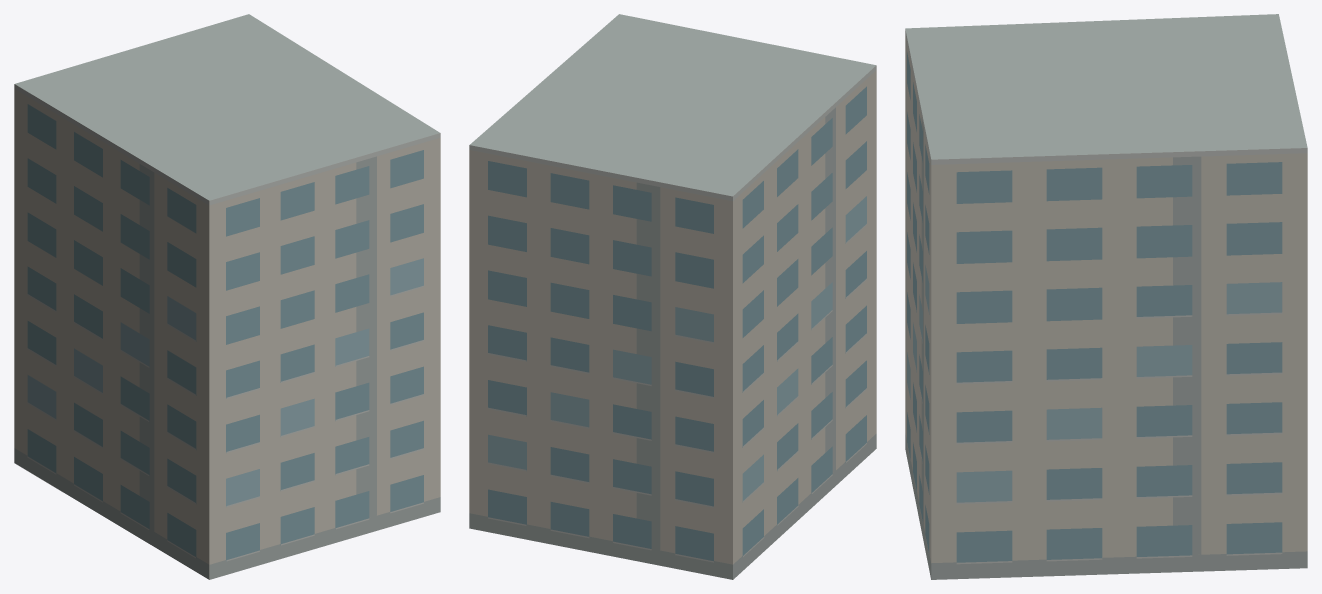
The model's file is survey-upis-32733491.glb.
3 views of the same model, side by side, from view 1: azimuth 30°, elevation 25°; view 2: azimuth 150°, elevation 25°; view 3: azimuth 270°, elevation 25° (orthographic). The views are drawn at different scales.
Parts seen in each view (by area): view 1: survey-upis-32733491.tmp; view 2: survey-upis-32733491.tmp; view 3: survey-upis-32733491.tmp.
Part boxes in pixels (bbox=[...]): survey-upis-32733491.tmp: bbox=[14, 14, 440, 579]; survey-upis-32733491.tmp: bbox=[469, 14, 876, 579]; survey-upis-32733491.tmp: bbox=[905, 14, 1307, 579].
Bounding box in the file's own units: 14.5 × 19.49 × 16.92.
